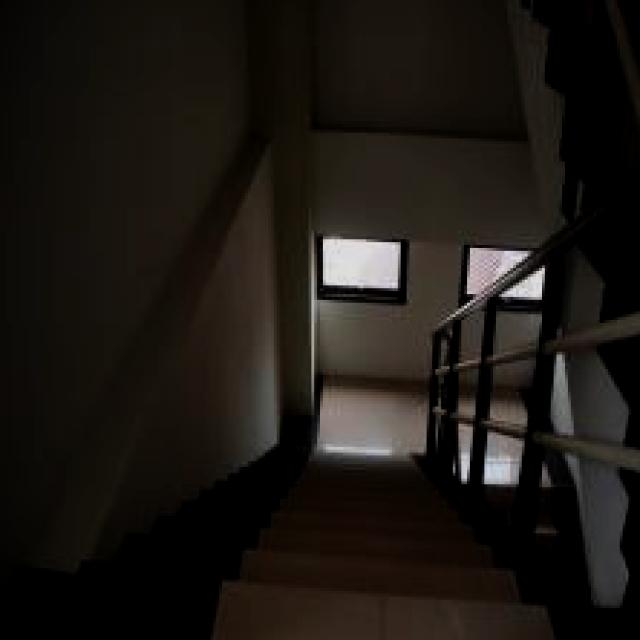downstair: (240, 471, 439, 640)
